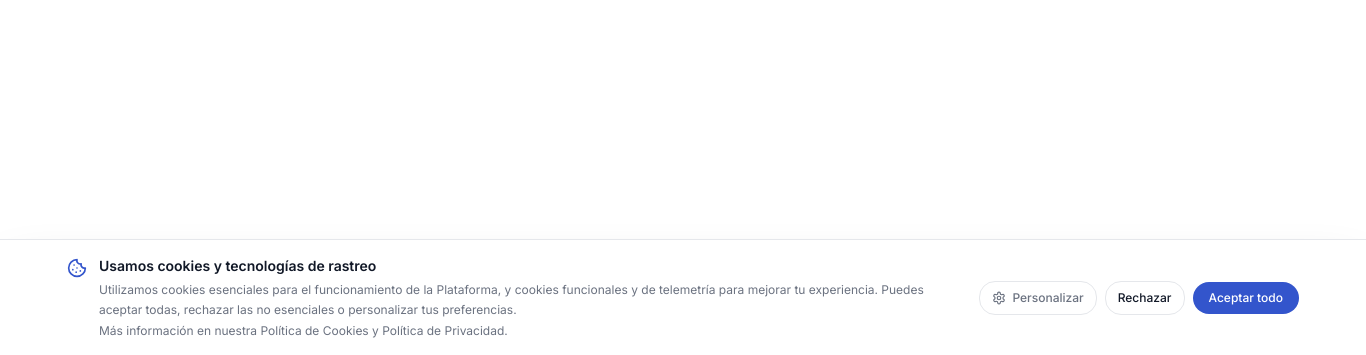
Test: CookieConsentBanner › custom preferences › shows detail panel when clicking customize
Click the button "Personalizar" at (1038, 298), box left=979, top=280, right=1097, bottom=314
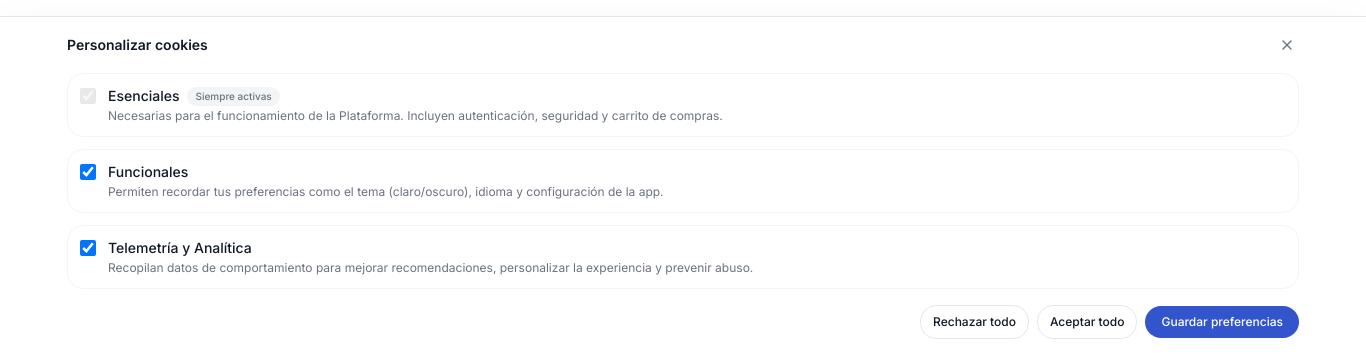
Now the heading "Personalizar cookies" is shown, box left=67, top=35, right=208, bottom=55
